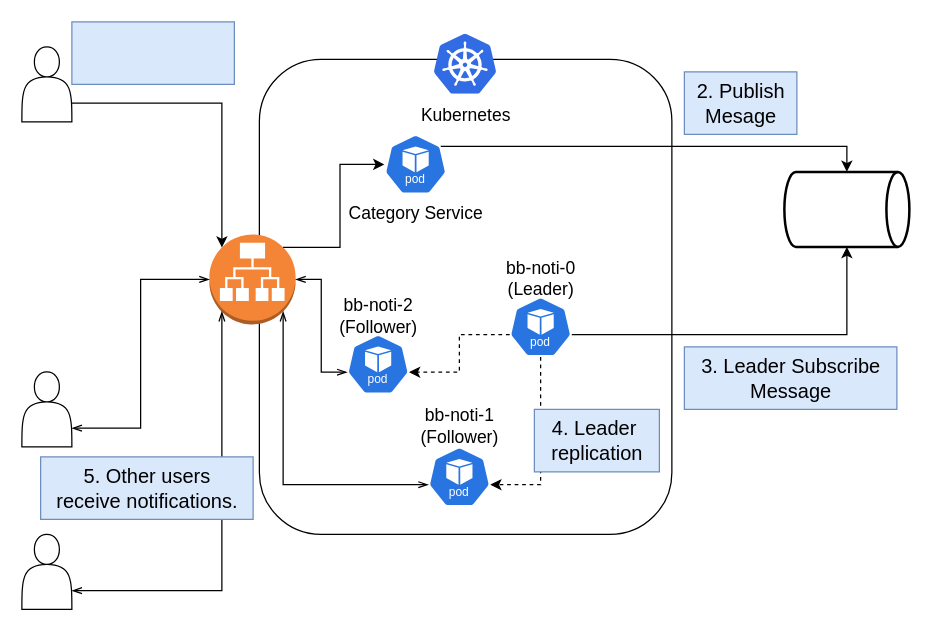
This 933x631 diagram has some shape labels left out. Here are the shapes that lost their labels. From the top down, the box of each, then its label:
(71, 21, 234, 84): 1. User update category
(782, 170, 910, 248): NATs
